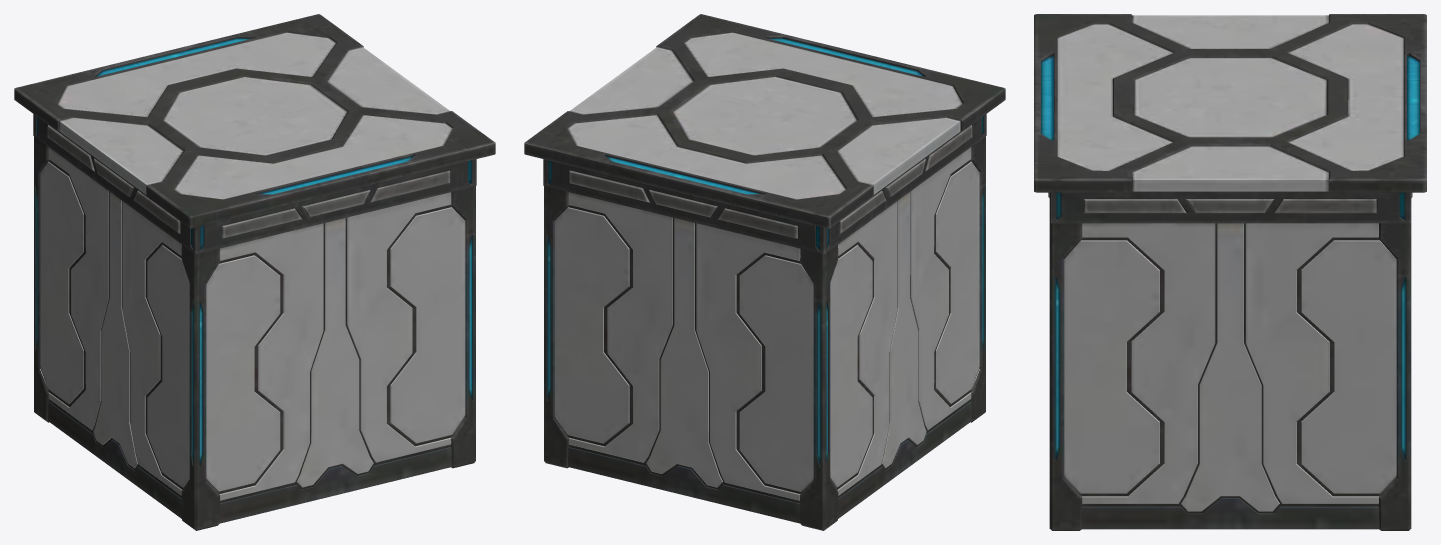
File: SM_Floor_Ancient_0f414e.glb
3 renders of one model, left to right at view 1: azimuth 30°, elevation 25°; view 2: azimuth 150°, elevation 25°; view 3: azimuth 270°, elevation 25°, orthographic. The views are drawn at different scales.
Size of the model in its own units: 4 by 4.03 by 4.
Materials: 1 (1 with a texture image).
